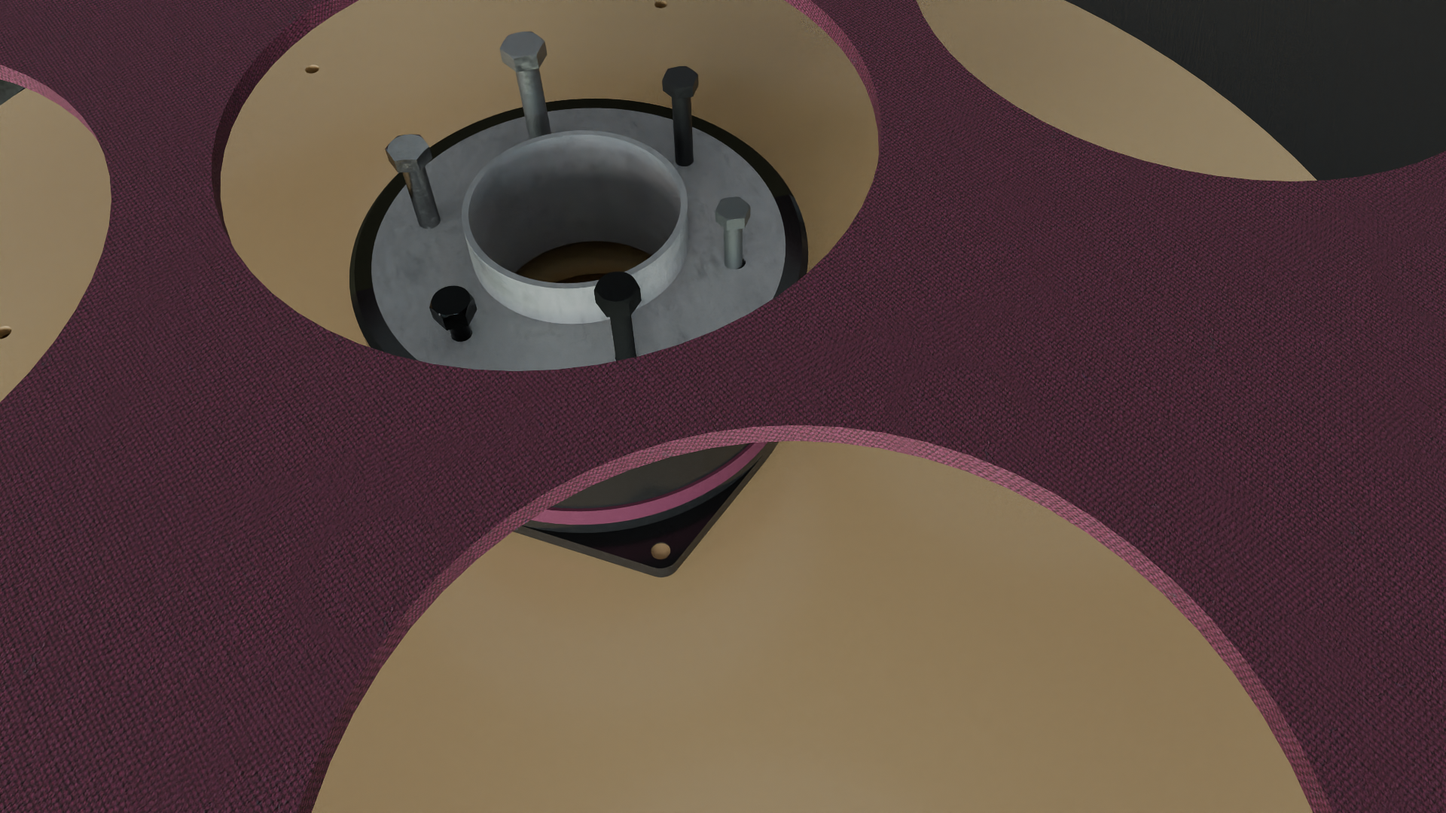bolt: (594, 271, 640, 306), (429, 285, 474, 320), (499, 32, 545, 59), (385, 134, 429, 161), (715, 196, 750, 221), (662, 66, 698, 90)
